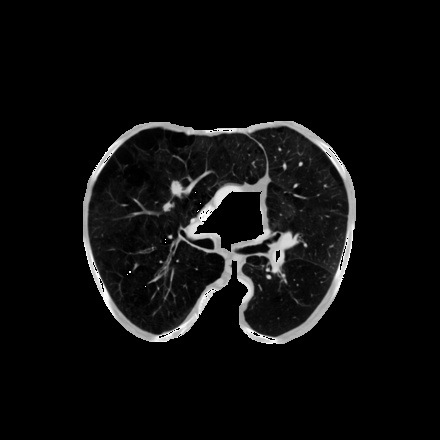PN: (165, 187, 181, 203)
